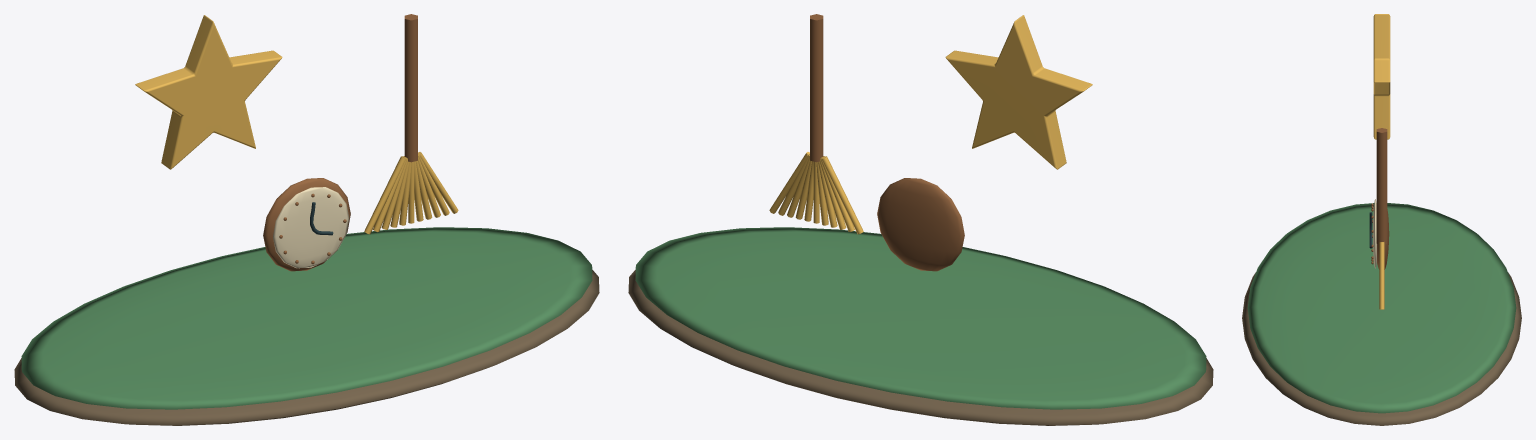
Rendered from complete-second-sparks-broom-time.glb.
3 views of the same model, side by side, from view 1: azimuth 30°, elevation 25°; view 2: azimuth 150°, elevation 25°; view 3: azimuth 270°, elevation 25° (orthographic). The views are drawn at different scales.
Parts seen in each view (by area): view 1: complete-second-sparks-broom-time_surface_01, complete-second-sparks-broom-time_surface_02, complete-second-sparks-broom-time_surface_00, complete-second-sparks-broom-time_surface_04, complete-second-sparks-broom-time_surface_03; view 2: complete-second-sparks-broom-time_surface_01, complete-second-sparks-broom-time_surface_02, complete-second-sparks-broom-time_surface_00, complete-second-sparks-broom-time_surface_03; view 3: complete-second-sparks-broom-time_surface_01, complete-second-sparks-broom-time_surface_00, complete-second-sparks-broom-time_surface_02, complete-second-sparks-broom-time_surface_03.
Boxes of the visible parts, <box> form: complete-second-sparks-broom-time_surface_01: <box>21,227,592,409</box>; complete-second-sparks-broom-time_surface_02: <box>135,15,458,234</box>; complete-second-sparks-broom-time_surface_00: <box>14,270,599,425</box>; complete-second-sparks-broom-time_surface_04: <box>273,187,349,268</box>; complete-second-sparks-broom-time_surface_03: <box>263,14,417,271</box>; complete-second-sparks-broom-time_surface_01: <box>635,227,1206,409</box>; complete-second-sparks-broom-time_surface_02: <box>769,15,1092,234</box>; complete-second-sparks-broom-time_surface_00: <box>628,270,1213,425</box>; complete-second-sparks-broom-time_surface_03: <box>810,14,964,271</box>; complete-second-sparks-broom-time_surface_01: <box>1247,203,1516,413</box>; complete-second-sparks-broom-time_surface_00: <box>1242,272,1521,425</box>; complete-second-sparks-broom-time_surface_02: <box>1373,14,1390,309</box>; complete-second-sparks-broom-time_surface_03: <box>1371,128,1389,269</box>.
Size of the model in its own units: 4.56 by 2.75 by 2.5.
